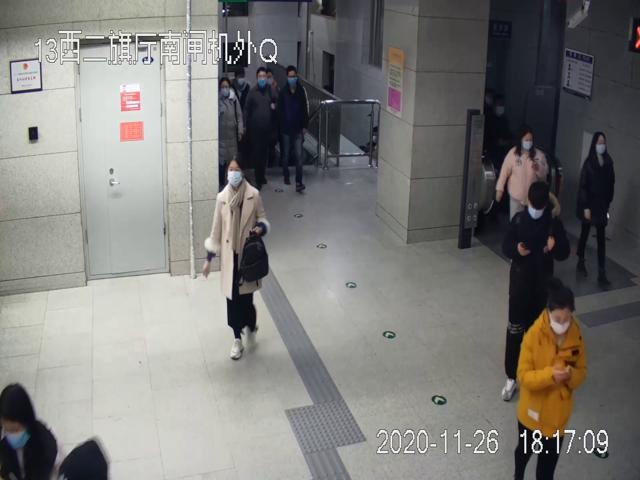person: (503, 184, 571, 402), (516, 280, 587, 480), (204, 152, 270, 360), (577, 128, 616, 291), (244, 66, 277, 191), (278, 65, 310, 192)
